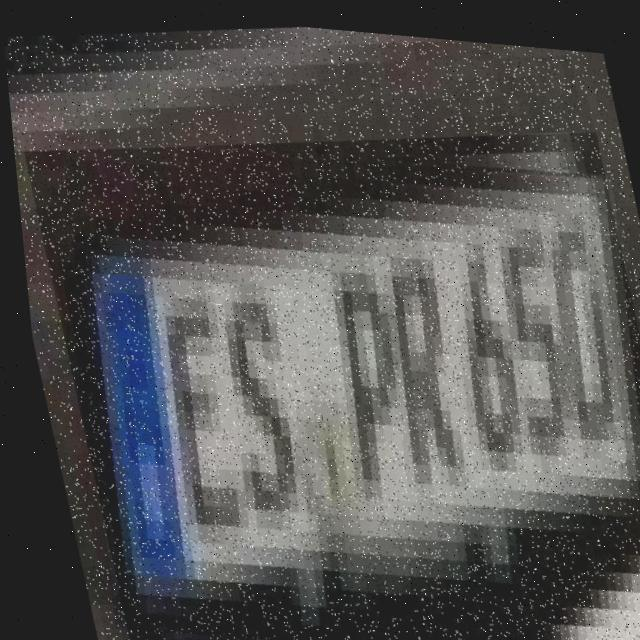LicensePlate: (15, 80, 640, 640)
